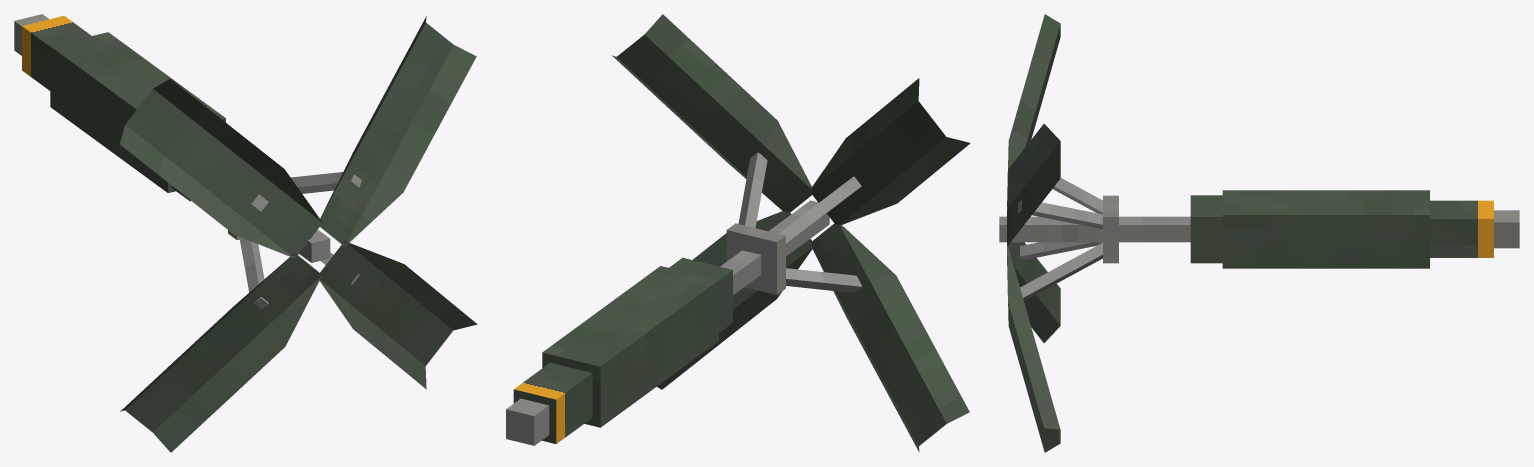
The model's file is snakeye.obj.
The picture shows the model from 3 angles, left to right: view 1: azimuth 30°, elevation 25°; view 2: azimuth 150°, elevation 25°; view 3: azimuth 270°, elevation 25°; orthographic projection. The views are drawn at different scales.
Visible parts, largest first — view 1: cube.005, cube.006, cube.008, cube.007, cube8, cube5, cube.002, cube.004, cube.001, cube.003, cube1, cube2 (+1 smaller); view 2: cube8, cube.008, cube.006, cube.005, cube5, cube.007, cube7, cube0, cube.002, cube.004, cube9, cube6 (+4 smaller); view 3: cube8, cube0, cube.007, cube.008, cube5, cube.005, cube.006, cube6, cube3, cube7, cube2, cube9 (+3 smaller).
Boxes of the visible parts, x1,y1,x2,y2 form: cube.005: (120,79,322,258); cube.006: (120,253,322,452); cube.008: (317,16,476,246); cube.007: (317,241,477,389); cube8: (50,32,225,192); cube5: (22,16,91,90); cube.002: (123,258,318,451); cube.004: (319,19,471,241); cube.001: (121,81,318,256); cube.003: (323,242,475,383); cube1: (239,237,268,309); cube2: (291,172,361,193); cube8: (542,266,718,427); cube.008: (612,14,812,212); cube.006: (811,223,969,451); cube.005: (811,78,970,224); cube5: (513,362,592,443); cube.007: (657,211,812,389); cube7: (726,223,785,294); cube0: (720,200,829,294); cube.002: (812,227,964,452); cube.004: (615,16,811,207); cube9: (506,398,549,445); cube6: (669,257,732,332); cube8: (1222,190,1429,268); cube0: (999,216,1190,242); cube.007: (1007,242,1060,452); cube.008: (1007,123,1060,245); cube5: (1430,200,1493,257); cube.005: (1007,14,1060,211); cube.006: (1007,242,1060,343); cube6: (1190,195,1222,263); cube3: (1020,242,1102,300); cube7: (1103,195,1118,263); cube2: (1018,200,1102,229); cube9: (1494,210,1519,248).
Bounding box in the file's own units: 1.43 × 1.43 × 2.04.
